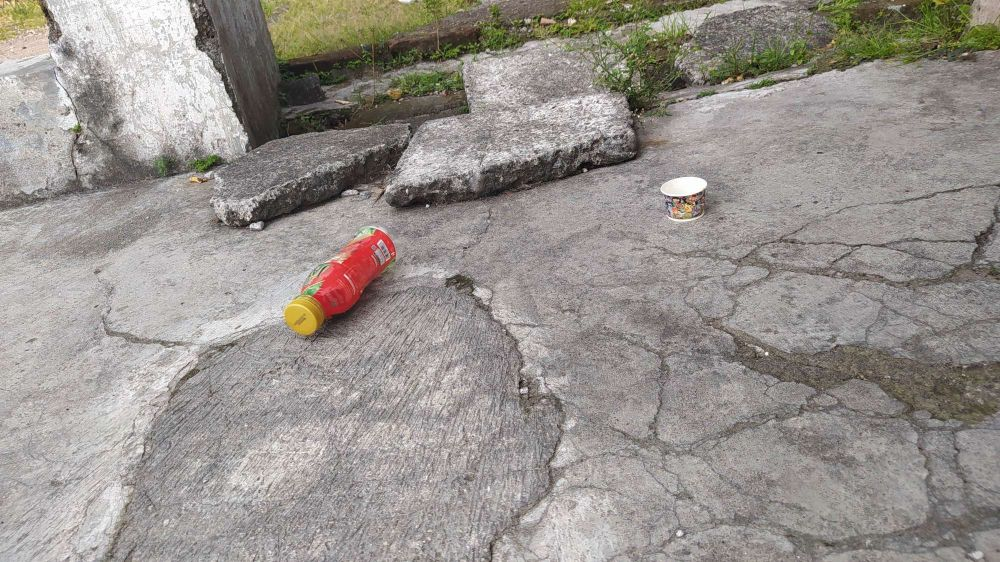botol: (243, 215, 408, 351)
